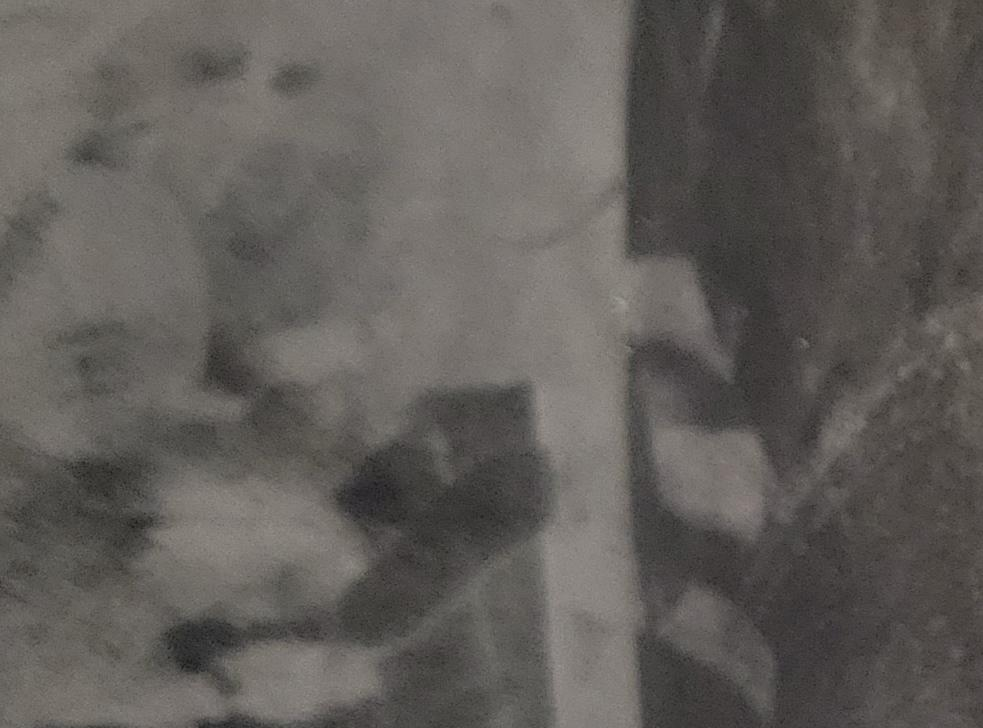Chip: (1, 369, 686, 728)
